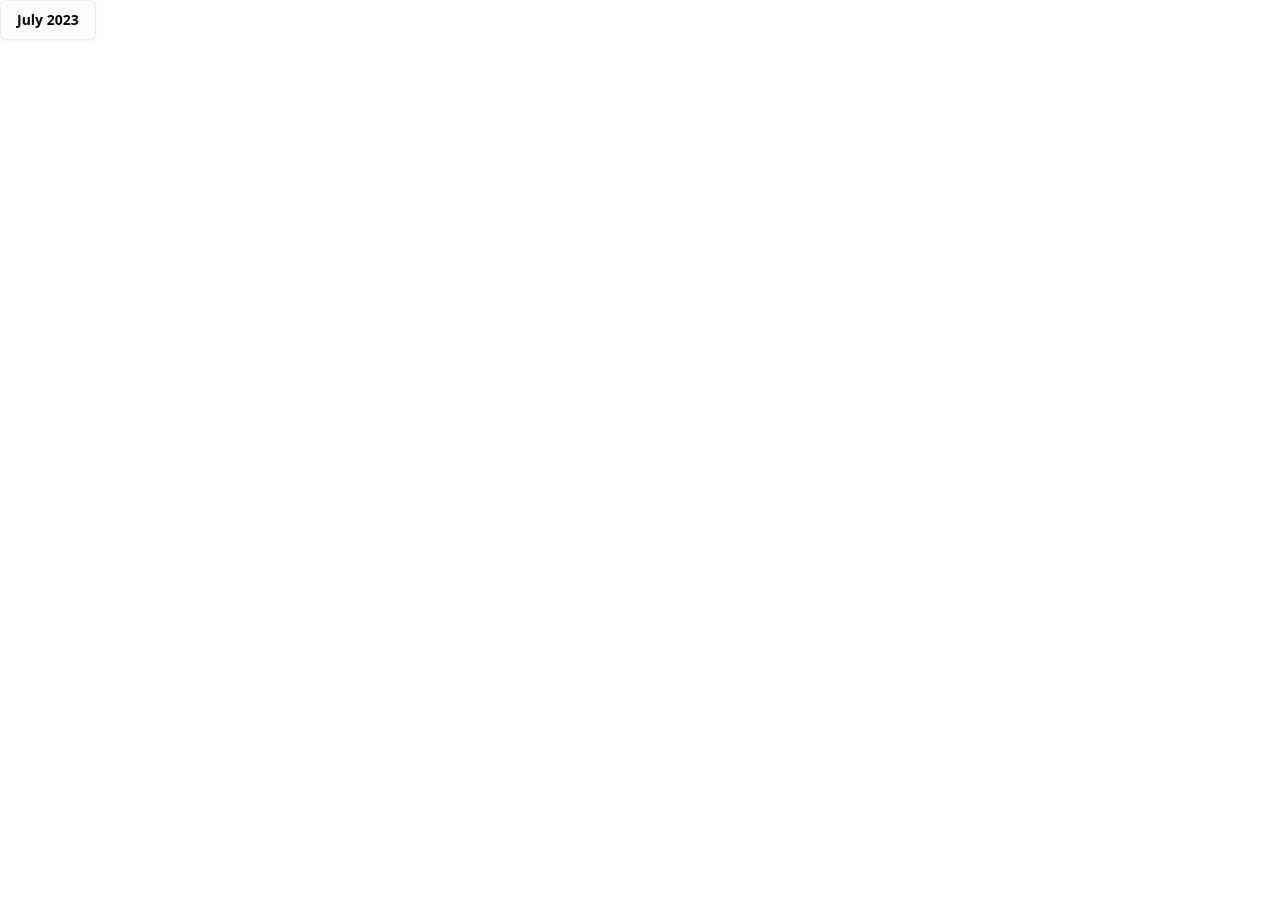
it: WeekMonthPicker › updates displayed month when choosing year then month (desktop month mode)
Click the button "July 2023".
click(48, 20)  # box [0, 0, 96, 40]
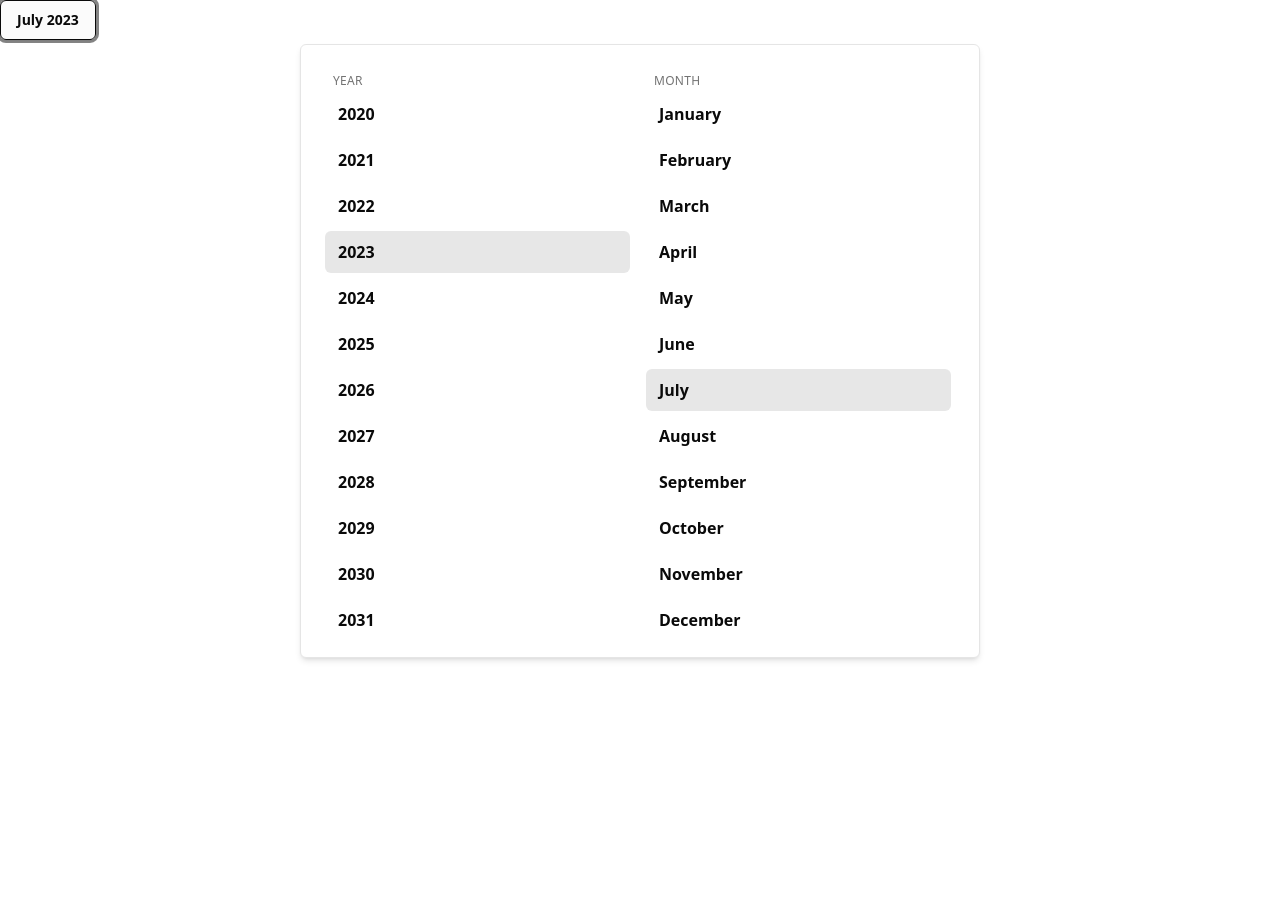
Click the button "2025".
click(356, 344)  # box [325, 323, 630, 365]
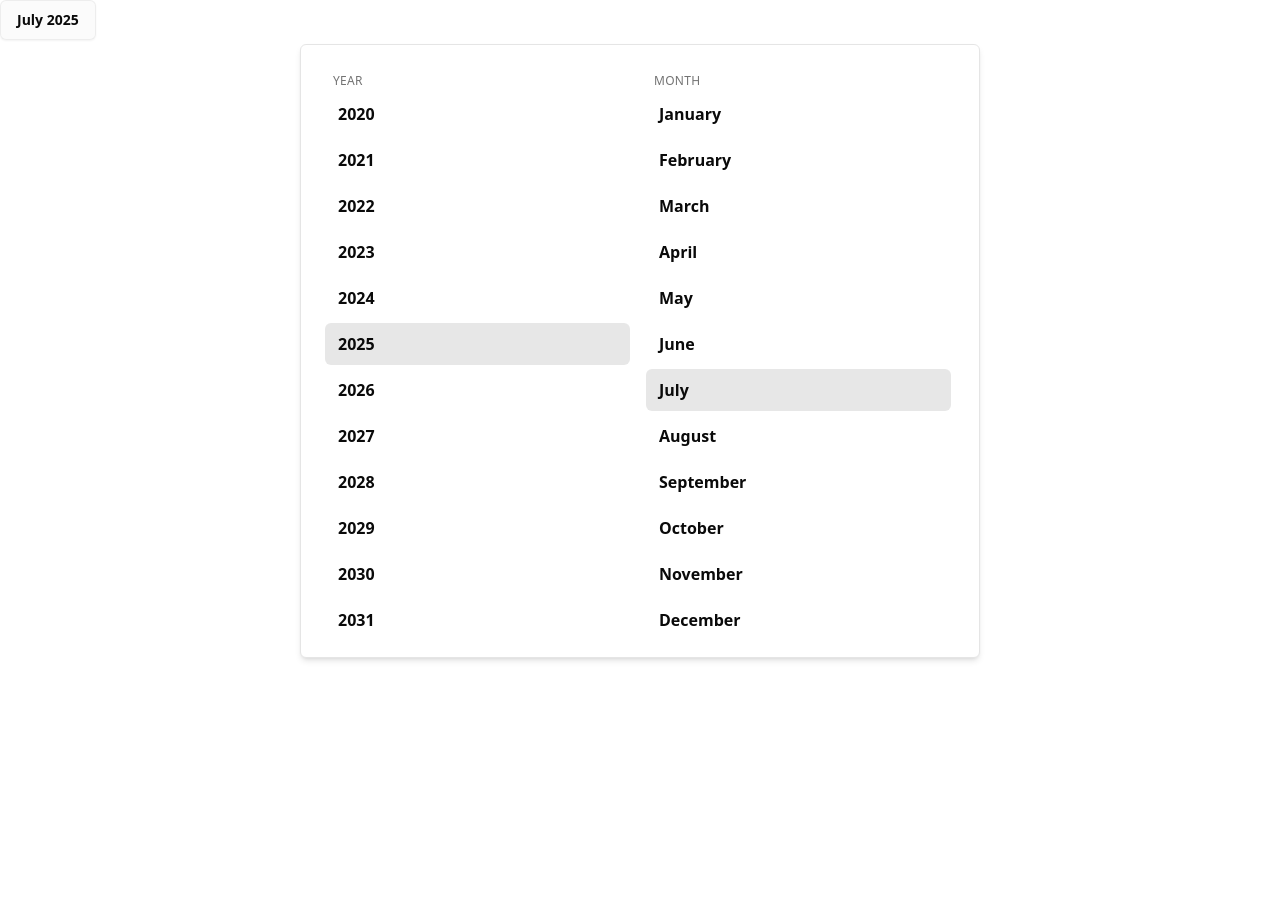
Check: the button "July 2025" is shown
Click the button "July 2025".
click(48, 20)  # box [0, 0, 96, 40]
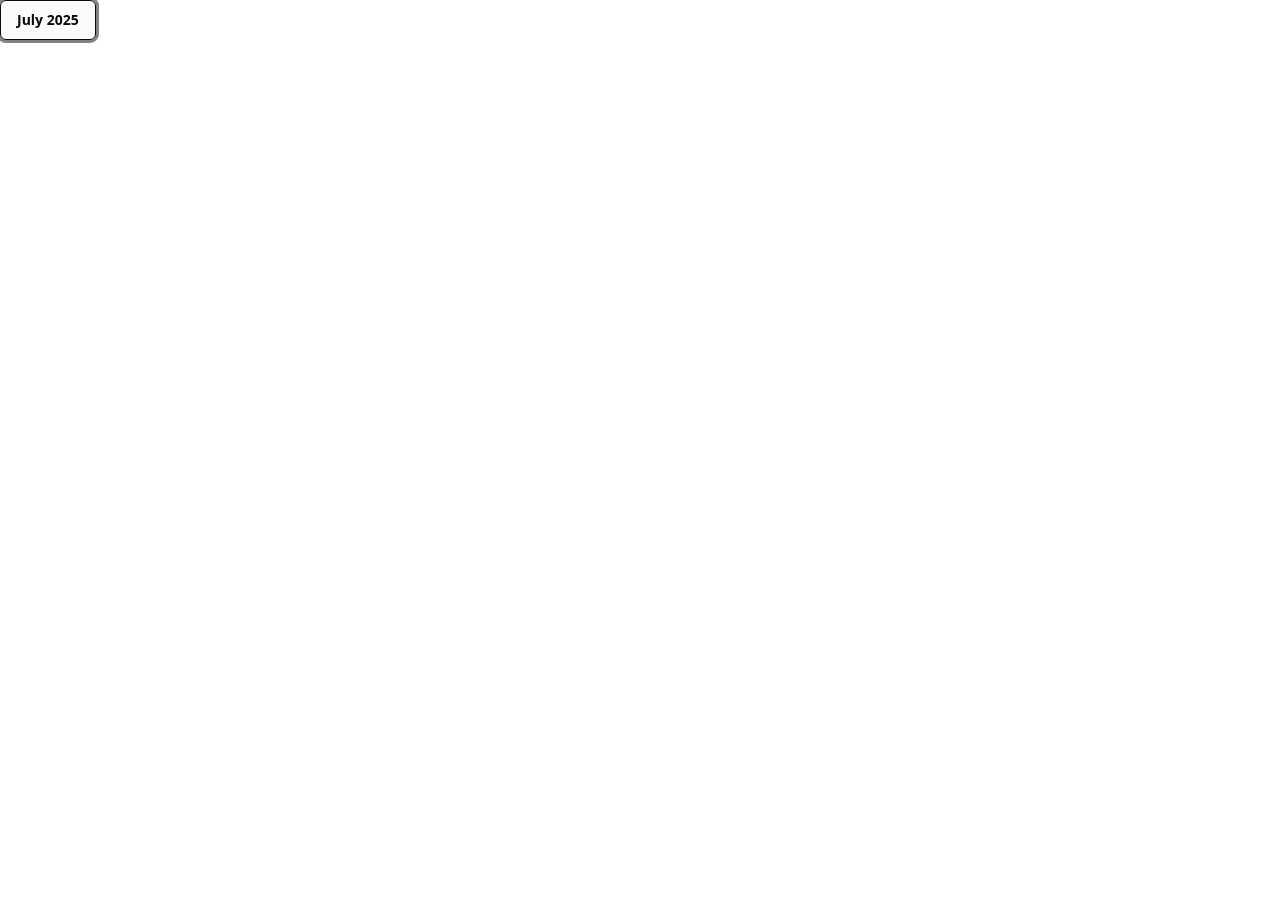
Click the button "July 2025".
click(48, 20)  # box [0, 0, 96, 40]
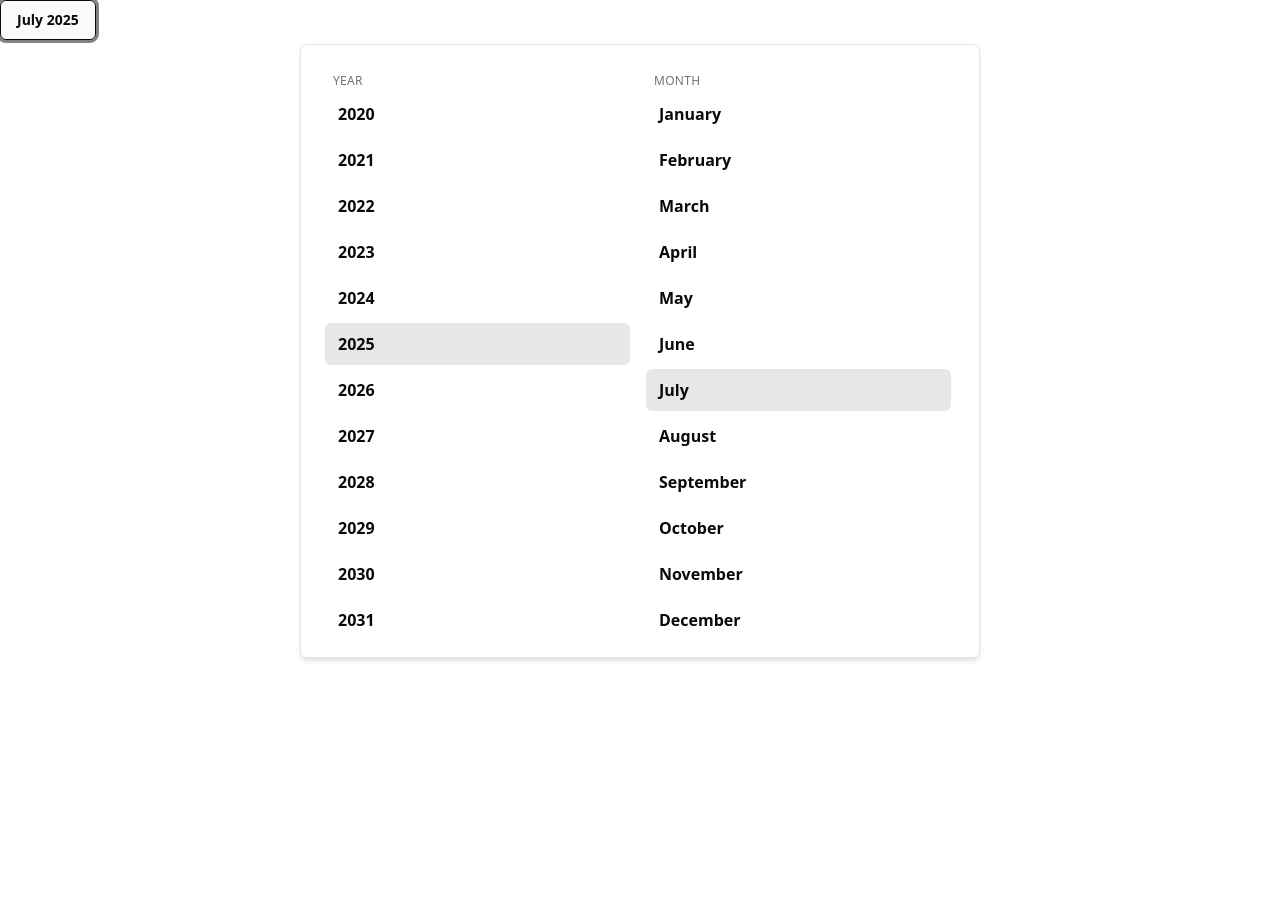
Check: the button "March" is shown
Click the button "March".
click(684, 206)  # box [646, 185, 951, 227]
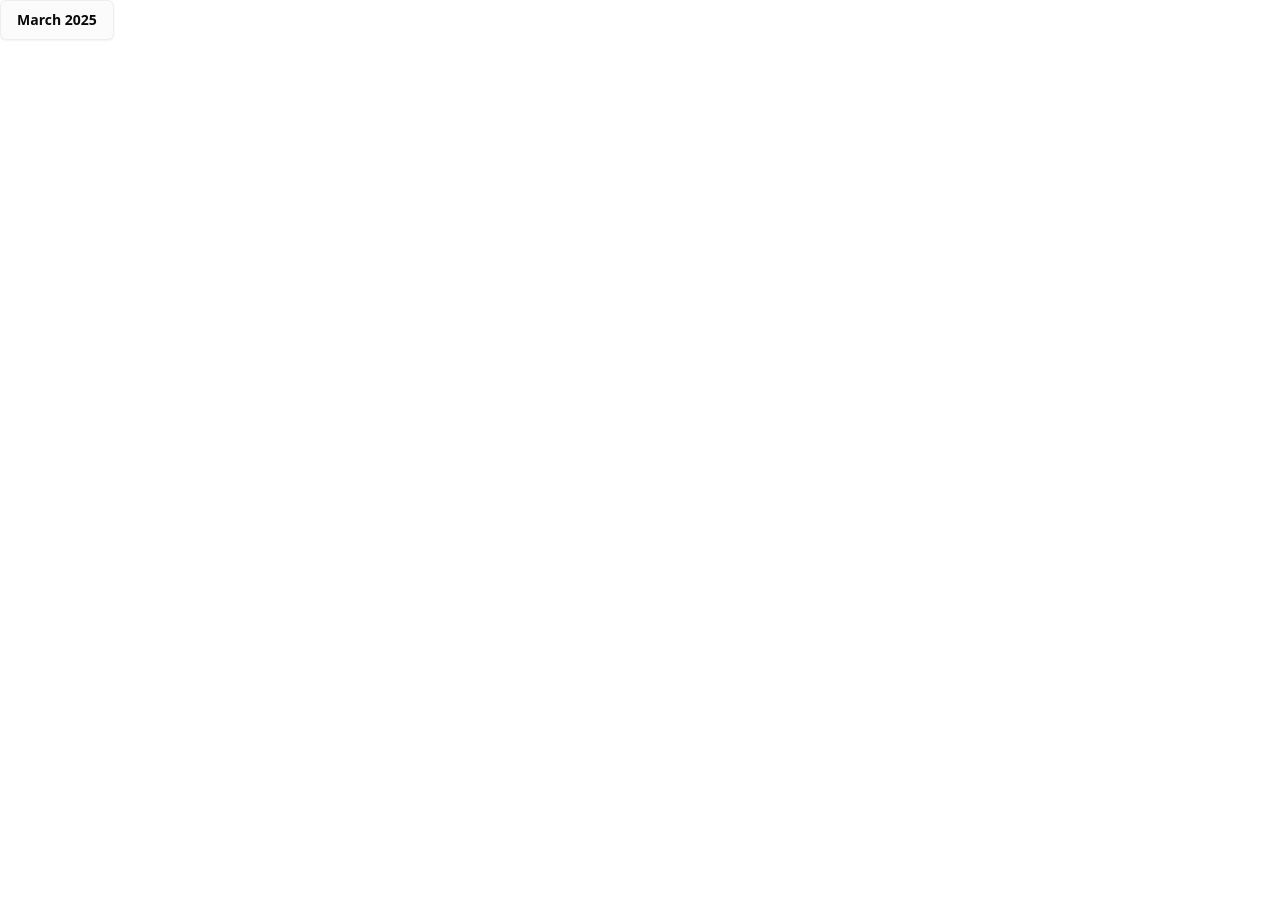
Check: the button "March 2025" is shown, box [0, 0, 114, 40]
